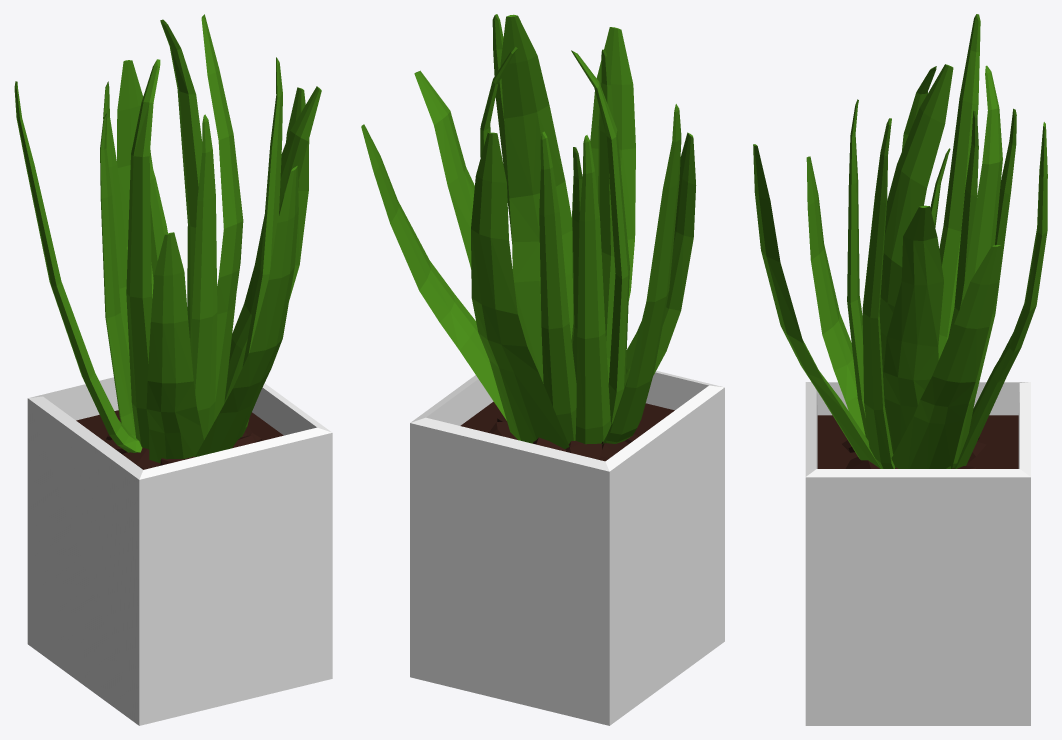
The picture shows the model from 3 angles, left to right: view 1: azimuth 30°, elevation 25°; view 2: azimuth 150°, elevation 25°; view 3: azimuth 270°, elevation 25°; orthographic projection. The views are drawn at different scales.
Parts seen in each view (by area): view 1: group1885116500, group1507777984, group2053840647, group1406455588, group1377145234, group560799048, group1647754183, group1781696643, group1025492697, group24448074, group1989238829, group714662036 (+3 smaller); view 2: group1885116500, group560799048, group714662036, group1781696643, group1308825903, group1647754183, group31856083, group1406455588, group2053840647, group1507777984, group24448074, group1377145234 (+3 smaller); view 3: group1885116500, group31856083, group24448074, group560799048, group1989238829, group1647754183, group2053840647, group1507777984, group1025492697, group714662036, group1377145234, group1781696643 (+2 smaller).
Boxes of the visible parts, x1,y1,x2,y2 form: group1885116500: [27, 377, 332, 725]; group1507777984: [146, 232, 203, 463]; group2053840647: [195, 165, 298, 457]; group1406455588: [126, 59, 160, 449]; group1377145234: [190, 114, 217, 439]; group560799048: [201, 14, 243, 421]; group1647754183: [14, 81, 142, 452]; group1781696643: [100, 113, 135, 435]; group1025492697: [160, 19, 202, 337]; group24448074: [224, 86, 321, 403]; group1989238829: [241, 57, 282, 436]; group714662036: [117, 60, 153, 298]; group1885116500: [410, 370, 724, 725]; group560799048: [500, 14, 573, 383]; group714662036: [471, 132, 569, 448]; group1781696643: [575, 135, 610, 444]; group1308825903: [539, 131, 576, 444]; group1647754183: [602, 104, 681, 444]; group31856083: [361, 124, 506, 420]; group1406455588: [571, 50, 629, 425]; group2053840647: [590, 27, 635, 300]; group1507777984: [624, 132, 696, 389]; group24448074: [414, 70, 474, 269]; group1377145234: [598, 49, 615, 382]; group1885116500: [805, 382, 1030, 725]; group31856083: [891, 245, 1001, 468]; group24448074: [883, 205, 950, 468]; group560799048: [879, 64, 953, 403]; group1989238829: [862, 118, 895, 468]; group1647754183: [938, 14, 980, 359]; group2053840647: [753, 144, 881, 468]; group1507777984: [806, 156, 865, 435]; group1025492697: [952, 65, 1002, 468]; group714662036: [954, 122, 1047, 468]; group1377145234: [847, 99, 868, 440]; group1781696643: [948, 110, 978, 336].
Size of the model in its own units: 1.77 by 3.56 by 1.5.
